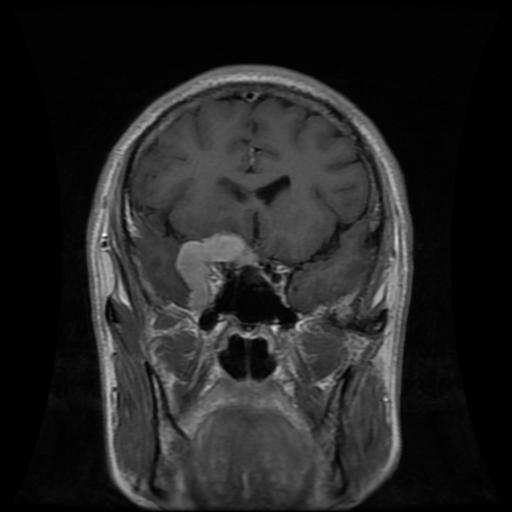Menigiomia_tumour: (175, 233, 258, 310)
